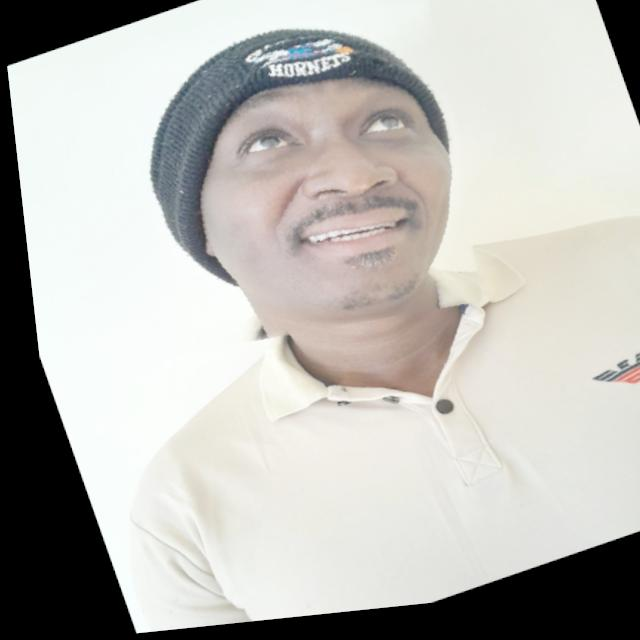happy: (77, 0, 513, 396)
